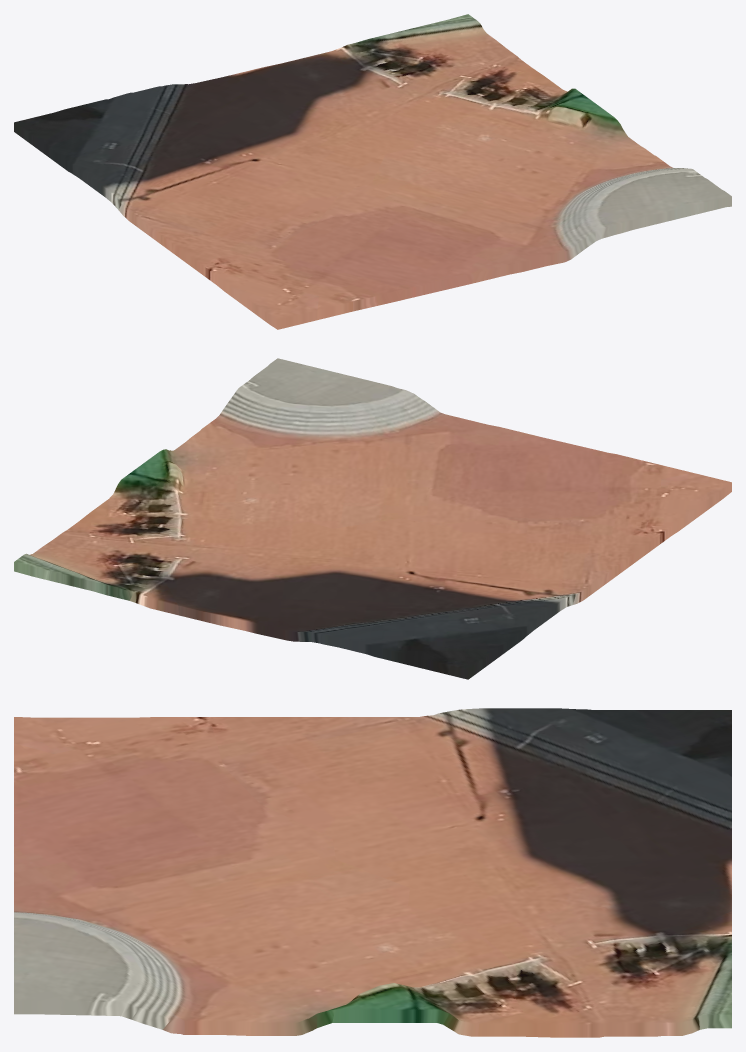
File: z20-167786-405222-h0-yup-uvflip-v3-world.glb
The picture shows the model from 3 angles, top to bottom: view 1: azimuth 30°, elevation 25°; view 2: azimuth 150°, elevation 25°; view 3: azimuth 270°, elevation 25°; orthographic projection. The views are drawn at different scales.
Bounding box in the file's own units: 30.16 × 1.72 × 30.32.
1 material, 1 textured.
